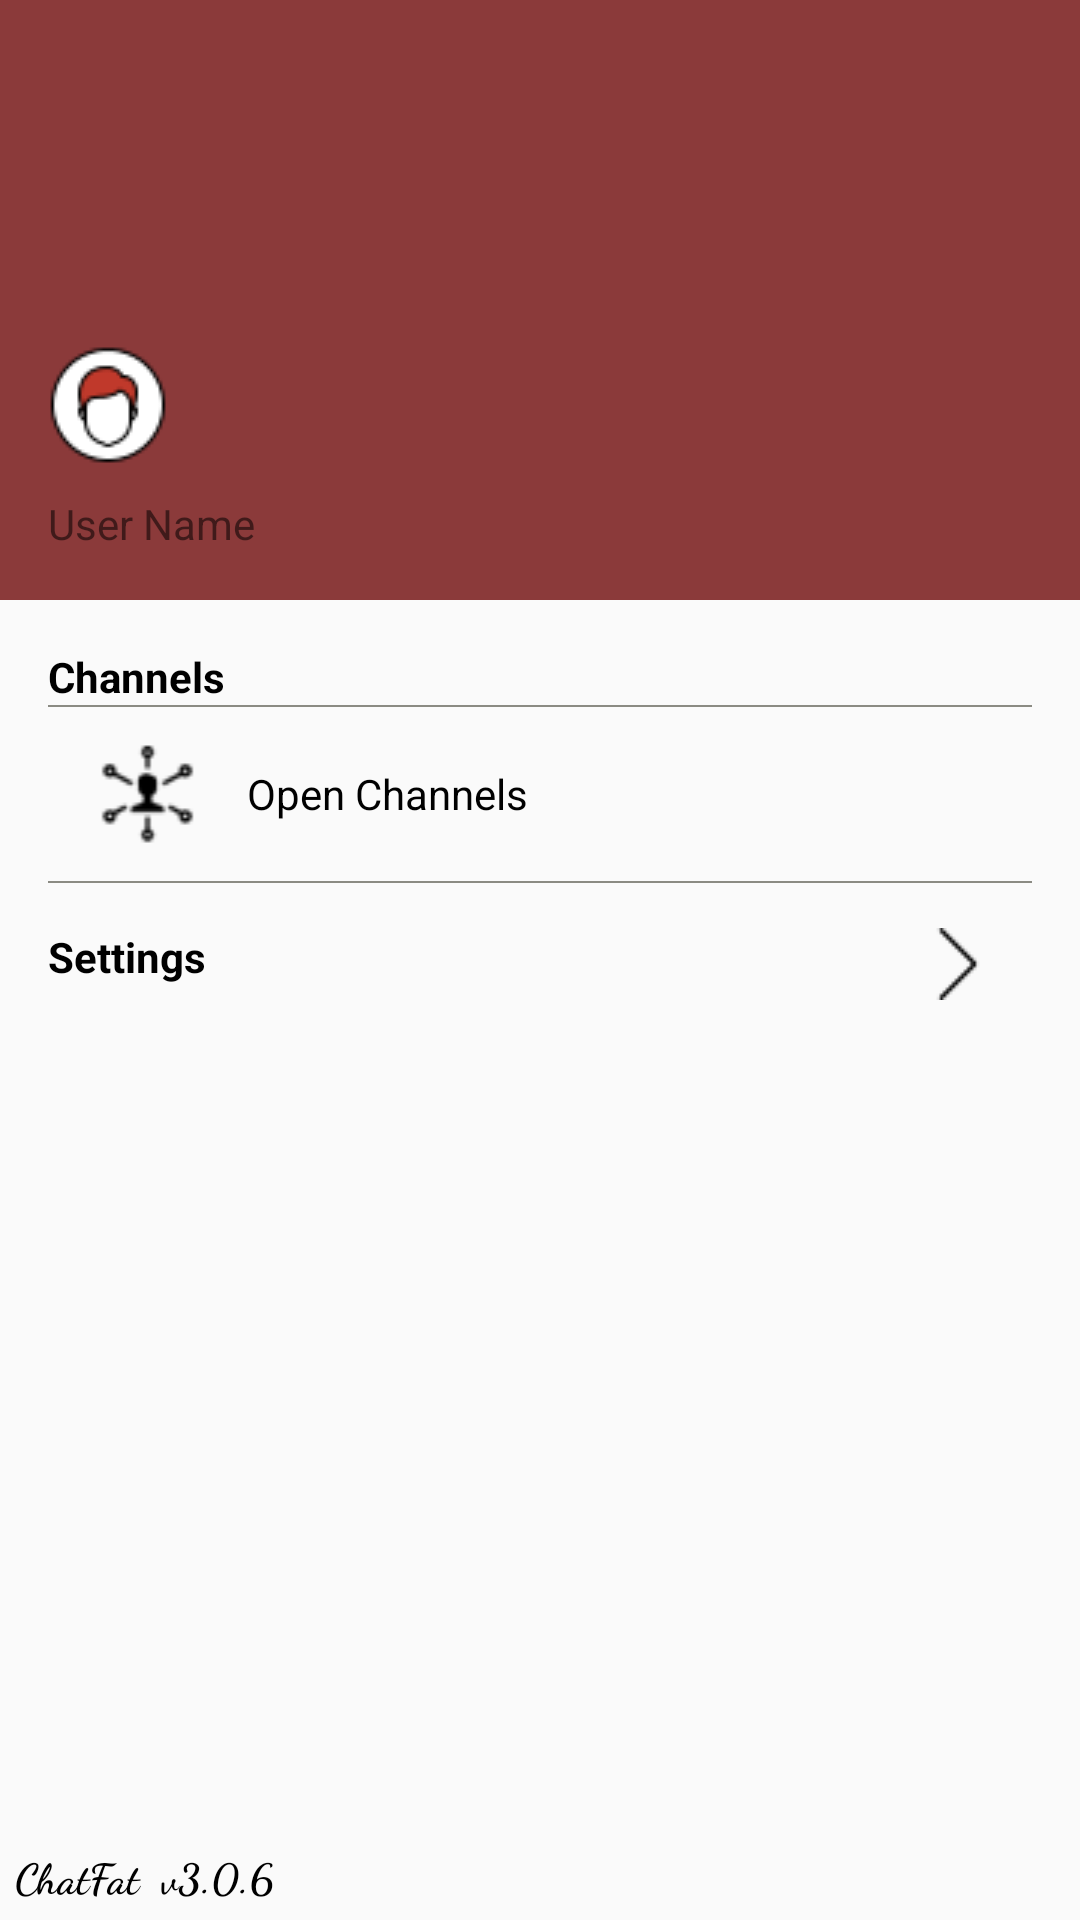

Named icons in this screenshot (1080w x 1920h) and their bounding boxes, [left=x1, top=y1, right=x2, bottom=y2]:
arrow next: [left=938, top=928, right=977, bottom=1000]
profile user: [left=50, top=347, right=166, bottom=463]
